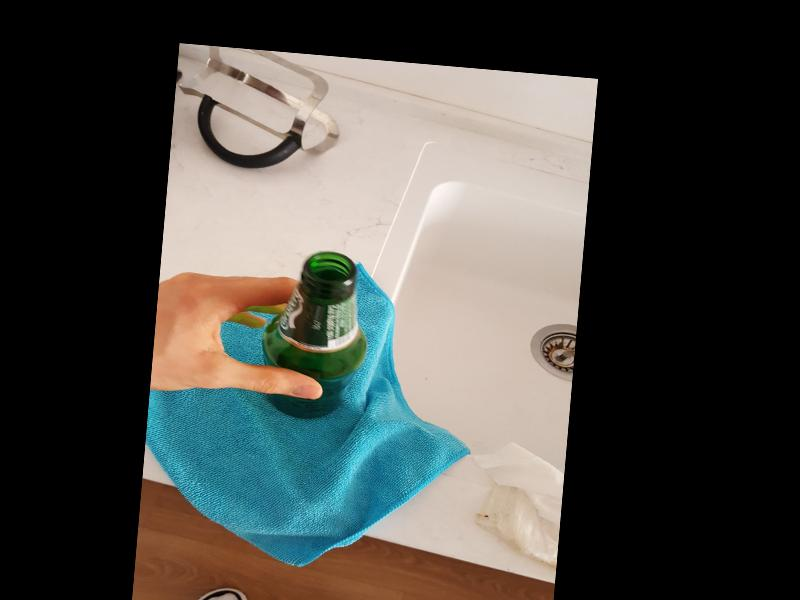Beer: (264, 249, 372, 424)
